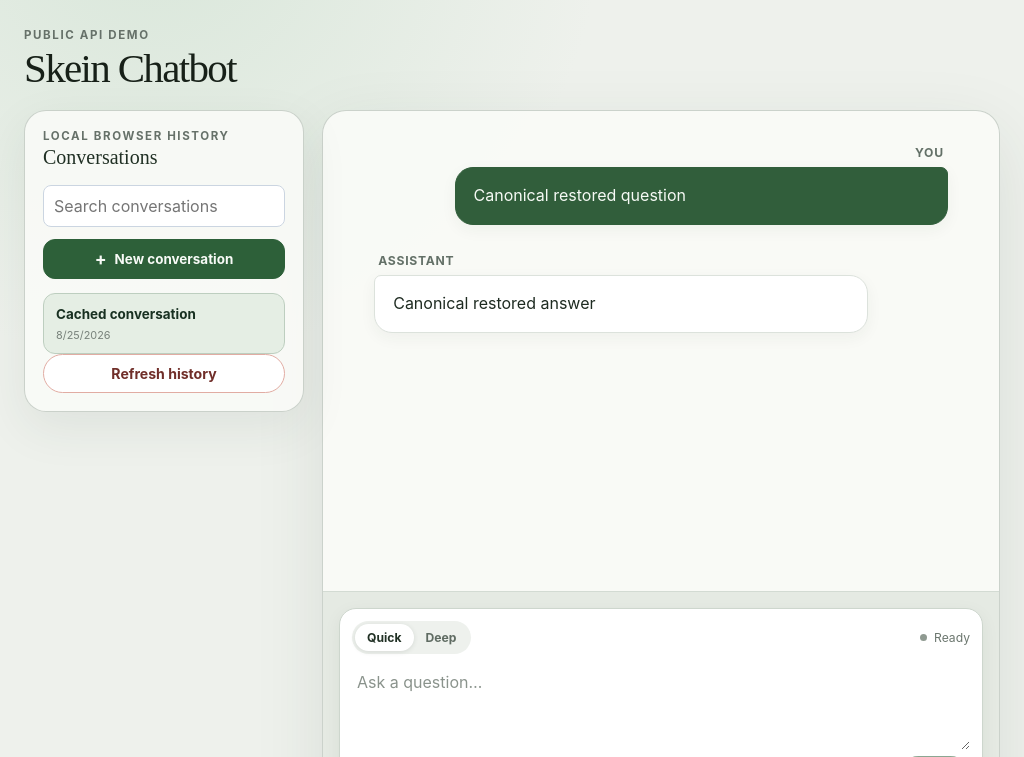
Test: App conversation persistence › refreshes canonical history using the renewed opaque token
This screenshot has width=1024, height=757.
What coordinates should you click on to do the following:
click the button "Refresh history"
I would click on:
 (164, 373)
Its box is [43,354,285,393].
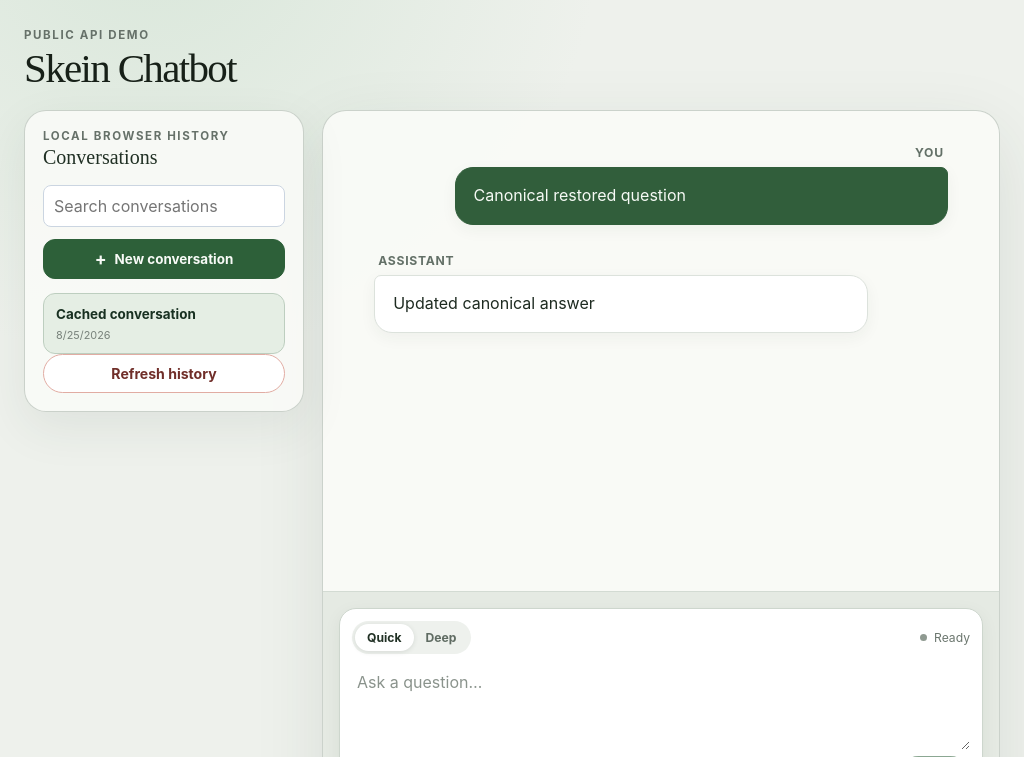
Now the text "Updated canonical answer" is shown, box [393,293,595,313]
